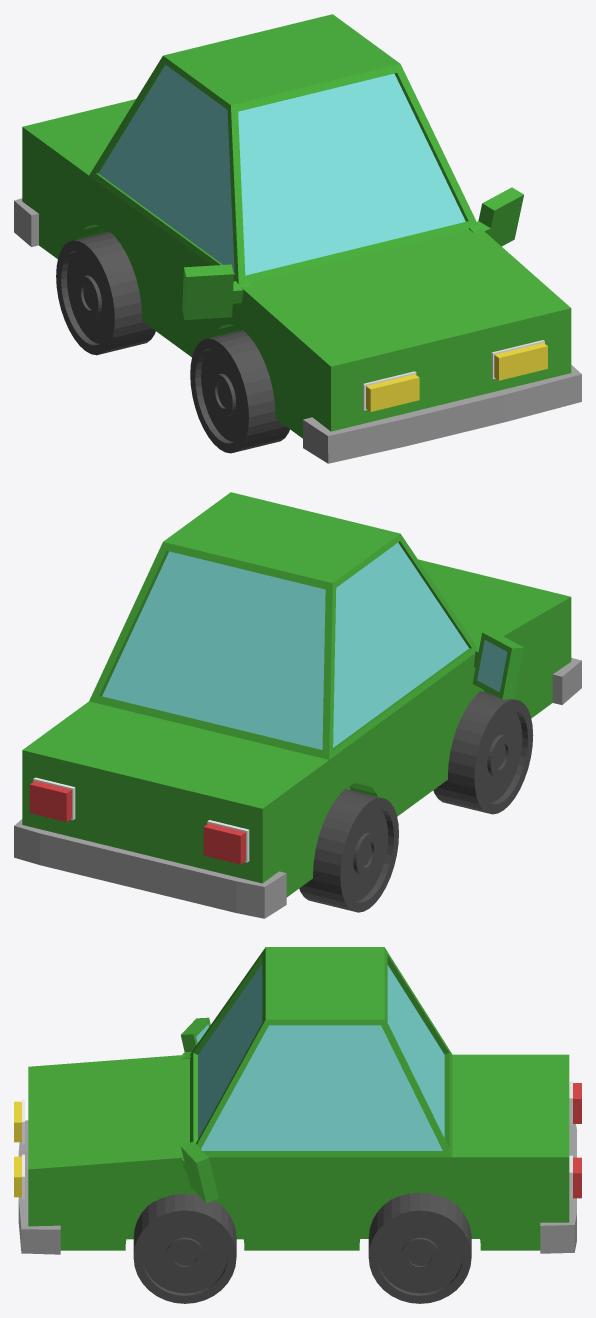
The model's file is 250513 Green Car_01.fbx.
3 renders of one model, top to bottom at view 1: azimuth 30°, elevation 25°; view 2: azimuth 150°, elevation 25°; view 3: azimuth 270°, elevation 25°, orthographic. The views are drawn at different scales.
Parts seen in each view (by area): view 1: Cube.005; view 2: Cube.005; view 3: Cube.005.
Part boxes in pixels (left/top/right/bottom): Cube.005: left=14, top=14, right=581, bottom=463; Cube.005: left=14, top=492, right=581, bottom=918; Cube.005: left=14, top=947, right=581, bottom=1303.
Bounding box in the file's own units: 664 × 557 × 1103.
